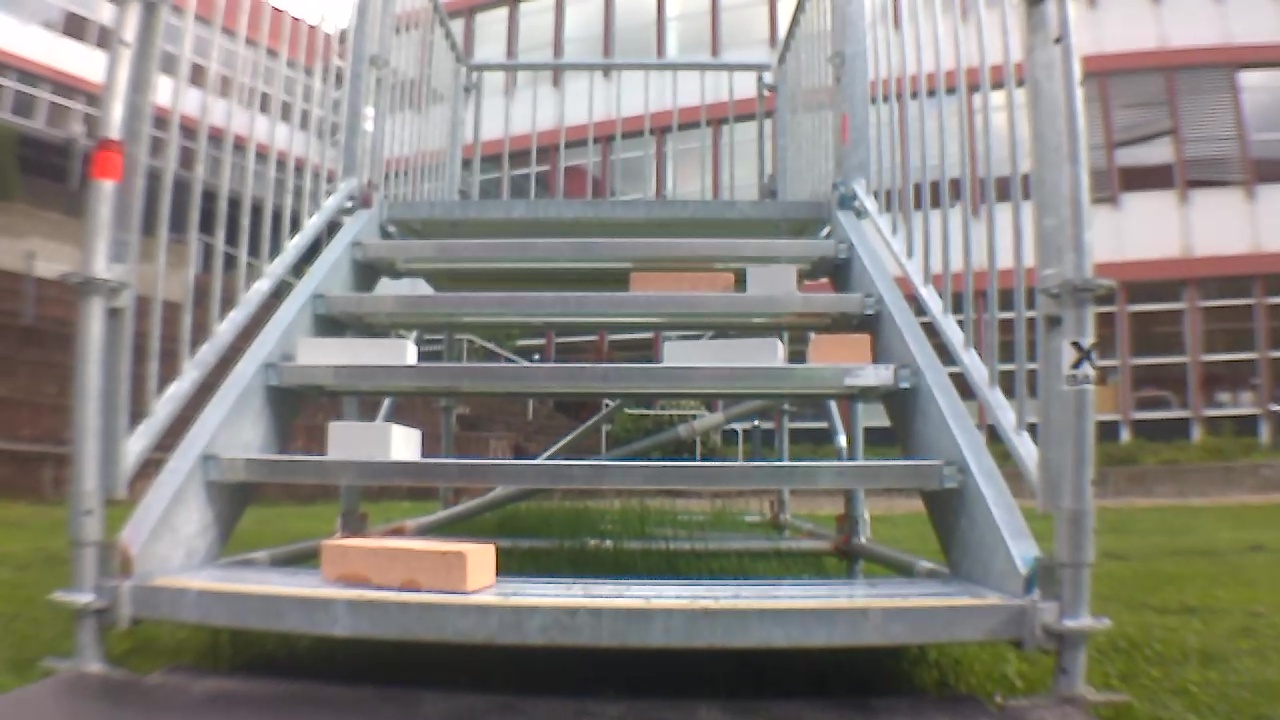brick: (321, 538, 495, 592), (328, 421, 421, 459), (664, 337, 783, 366), (296, 338, 417, 364), (631, 272, 732, 292), (807, 335, 871, 365), (747, 267, 796, 294)
edge: (134, 586, 1023, 646), (206, 455, 965, 487), (267, 364, 921, 390), (310, 293, 884, 314), (353, 238, 854, 257), (384, 199, 831, 217)
stairs: (66, 7, 1119, 702)
steps: (123, 192, 1031, 659)
